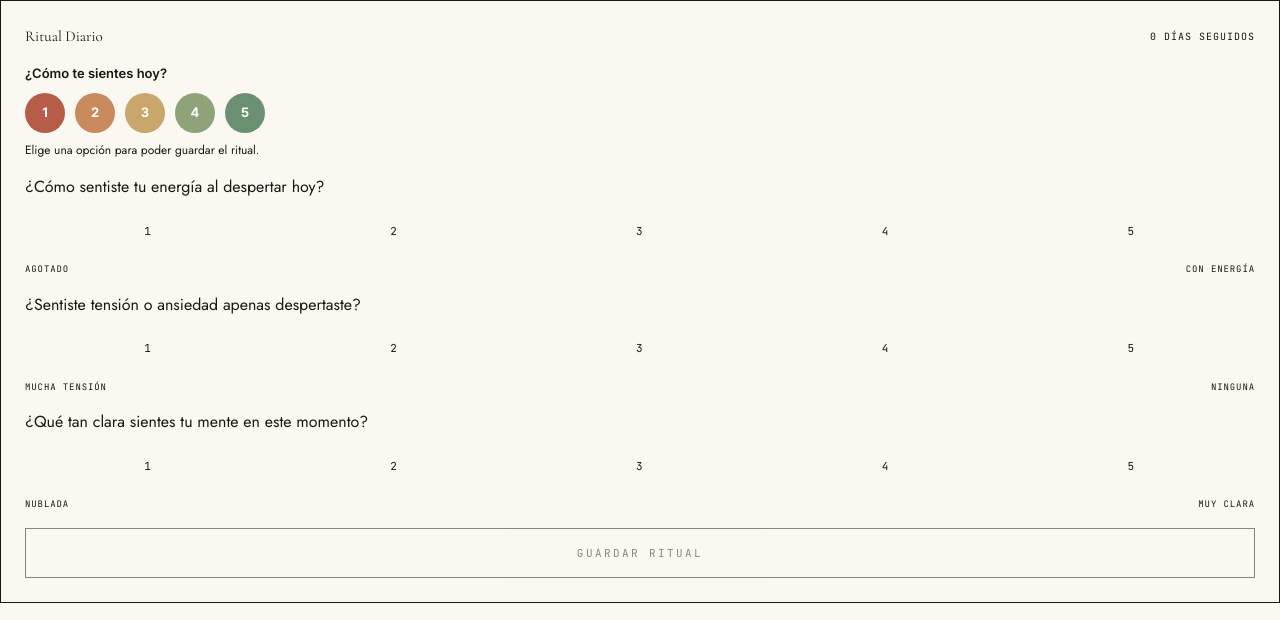
Scenario: DailyRitualCard › saves both the mood and the stress questions with one click, then collapses to a completed summary
This screenshot has width=1280, height=620.
Check: the text "¿Cómo te sientes hoy?" is shown, box [25,64,167,80]
Click the button named "Bien".
click(195, 113)  # box [175,93,215,133]
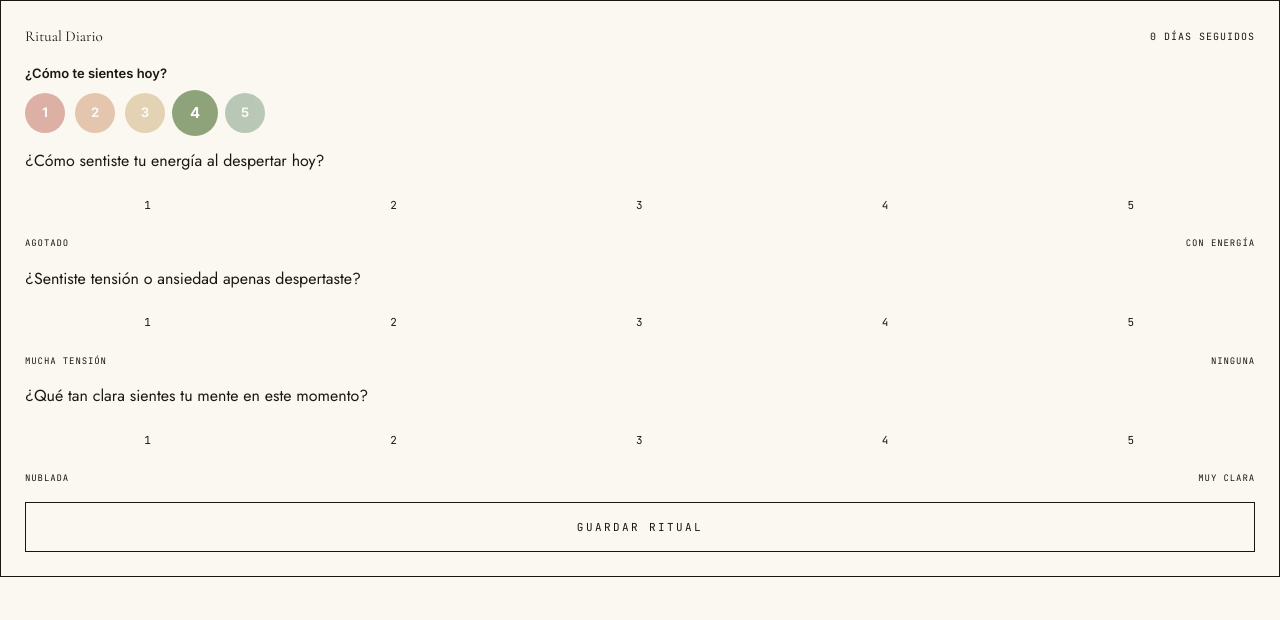
Click the button "Guardar ritual".
click(640, 527)  # box [25,502,1255,552]
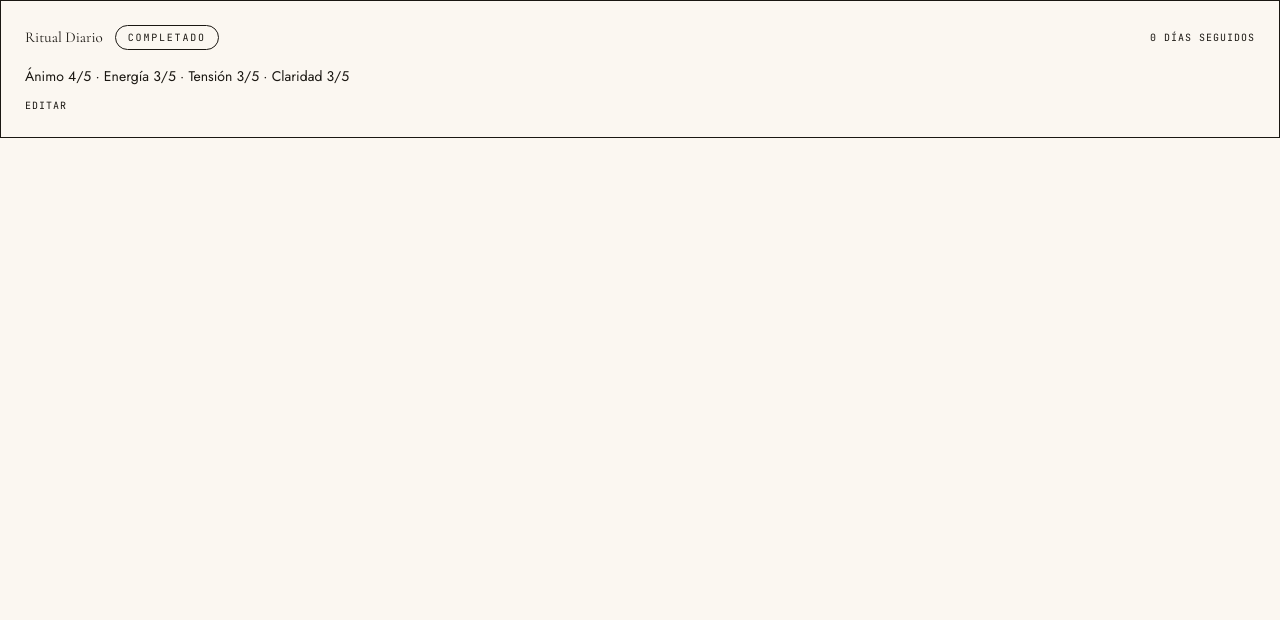
Check: the text "Completado" is shown, box [115,25,219,50]
Check: the text "Ánimo 4/5 · Energía 3/5 · Tensión 3/5 · Claridad 3/5" is shown, box [25,66,349,86]
